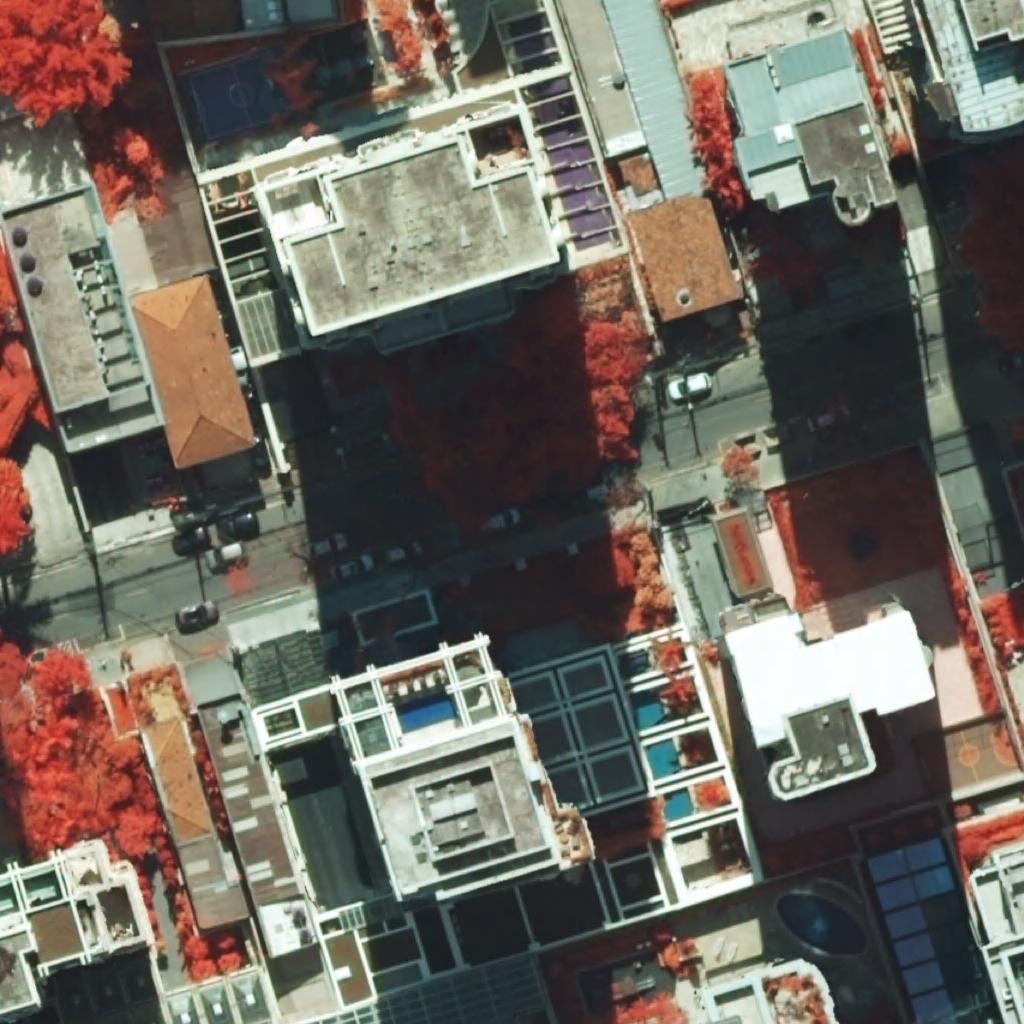pool: (778, 894, 868, 955), (395, 690, 457, 734), (643, 738, 682, 781), (630, 690, 664, 730), (664, 788, 694, 822)
